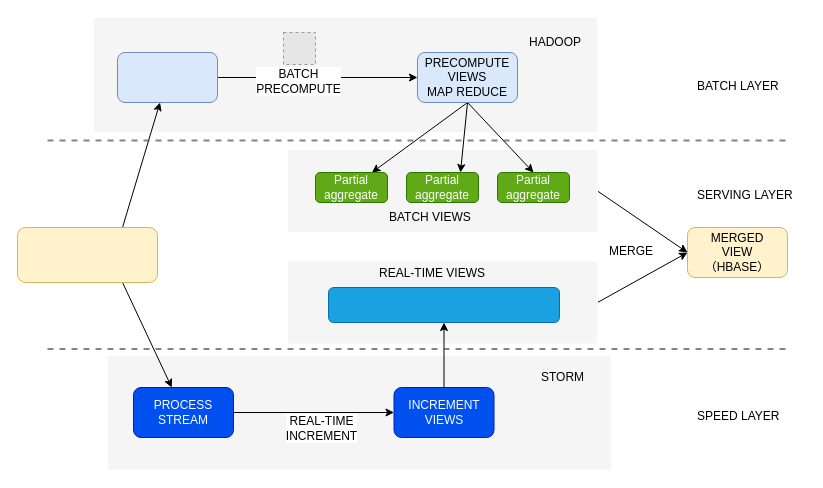
The diagram is 823 pixels wide and 488 high, and some of its shapes have lost their labels. Grey dashed boxes stand in for pictures. Each missing label, with the centre of its shape:
ALL DATA （HDFS）: pixel 167 77
NEW DATA STREAM: pixel 87 254
REAL-TIME DATA: pixel 444 304
